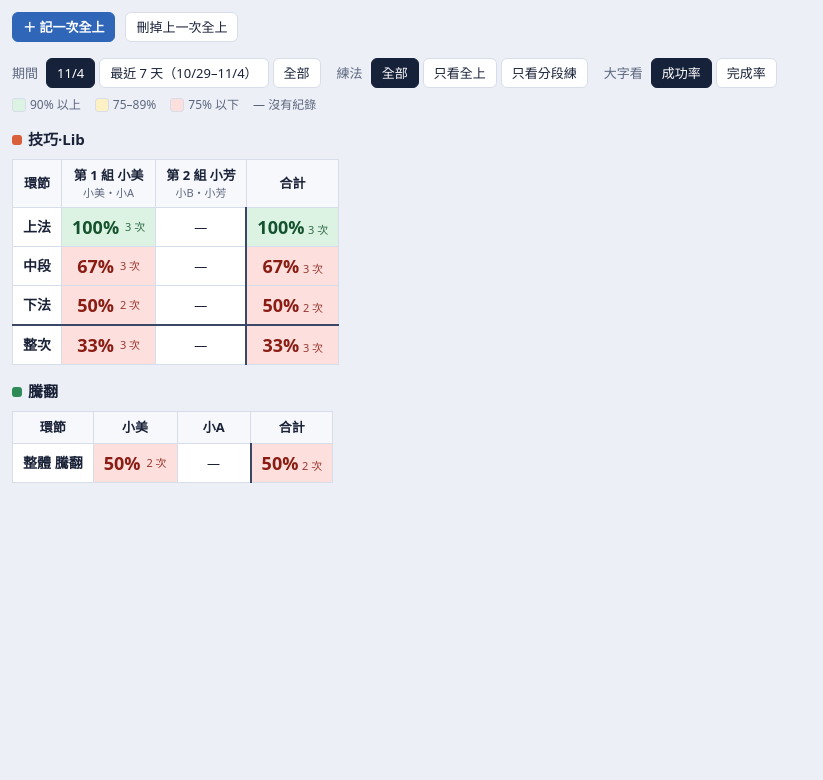
Scenario: 總表 › 「刪掉上一次全上」：整次拿掉這天最後存的全上，寫出刪了第幾次；按「救回」放回去
Step 1. Click the button "刪掉上一次全上" → (182, 27), box [125,12,238,42]
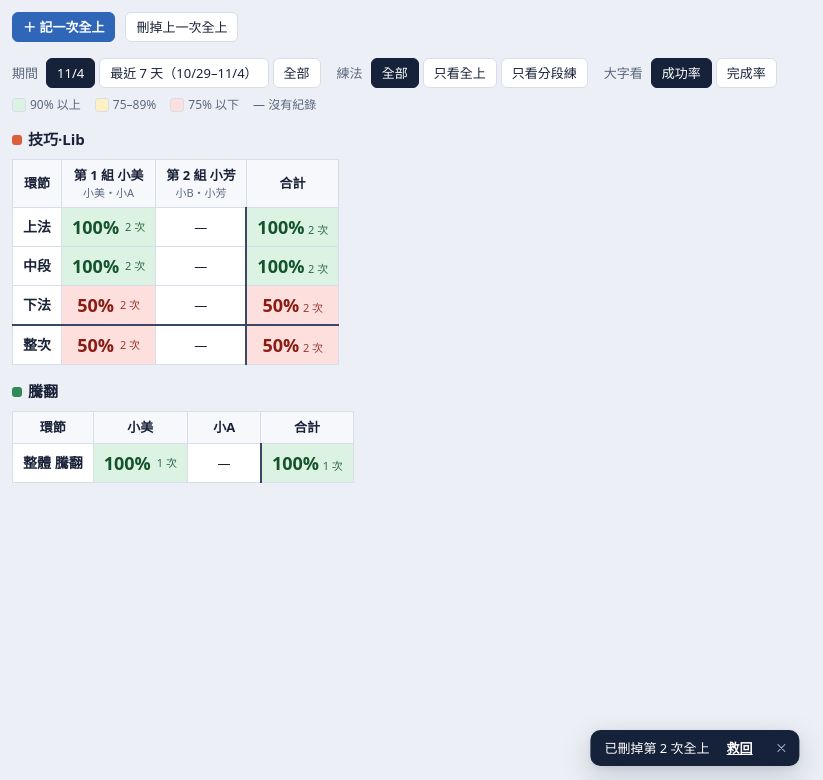
Expected: the message reads "已刪掉第 2 次全上", [604,739,710,757]
Step 2. Click the button "救回" → (740, 748), box [718,736,762,760]
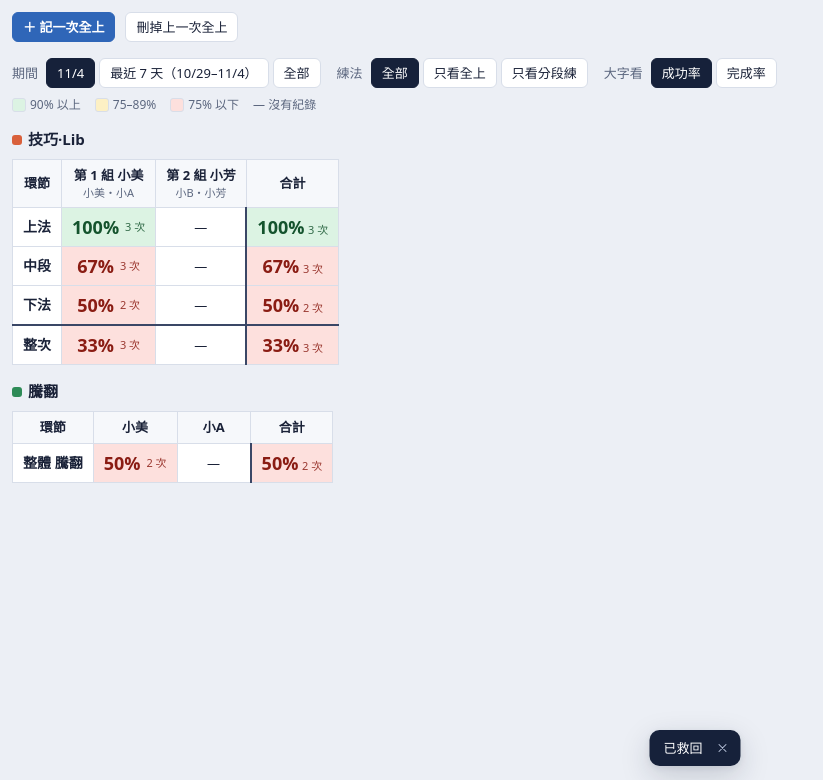
Expected: the message reads "已救回", [664,739,702,757]
